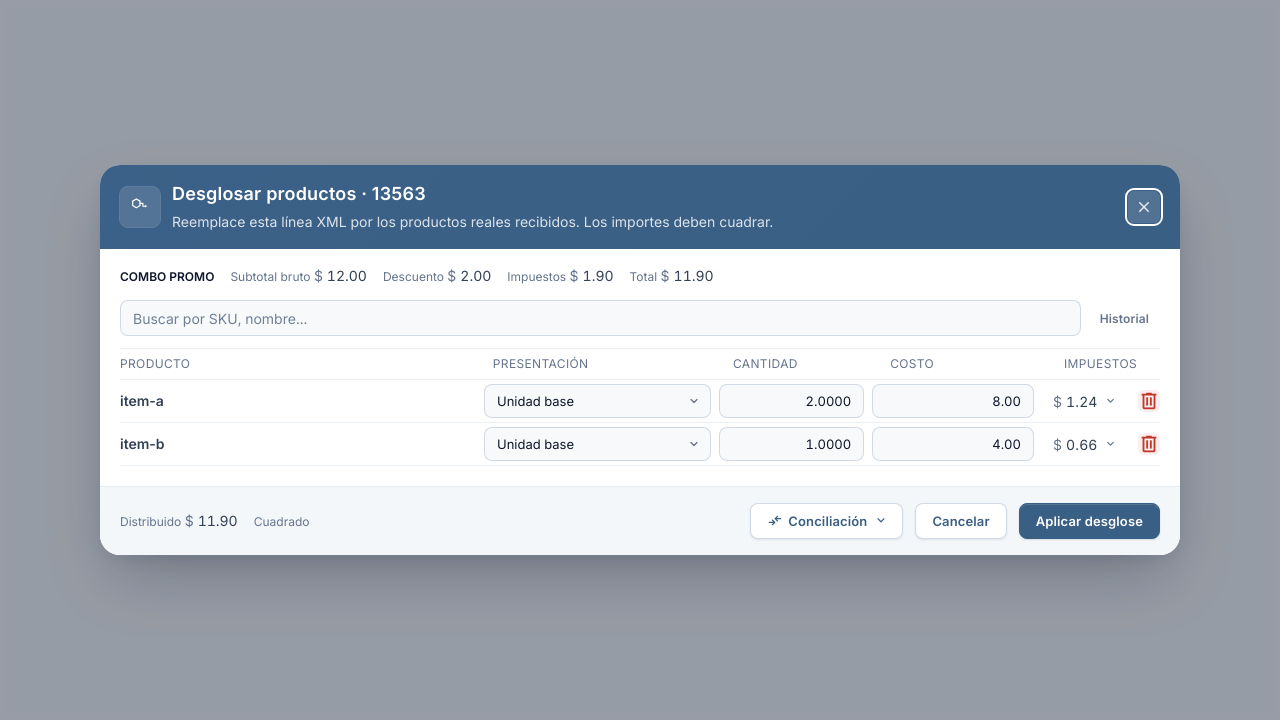
Test: PurchaseLineBreakdownModal › blocks applying on a tax difference and shows the reconciliation detail on demand
Click the button named "Impuestos y bases · item-b" at (1085,444), box left=1042, top=431, right=1129, bottom=457
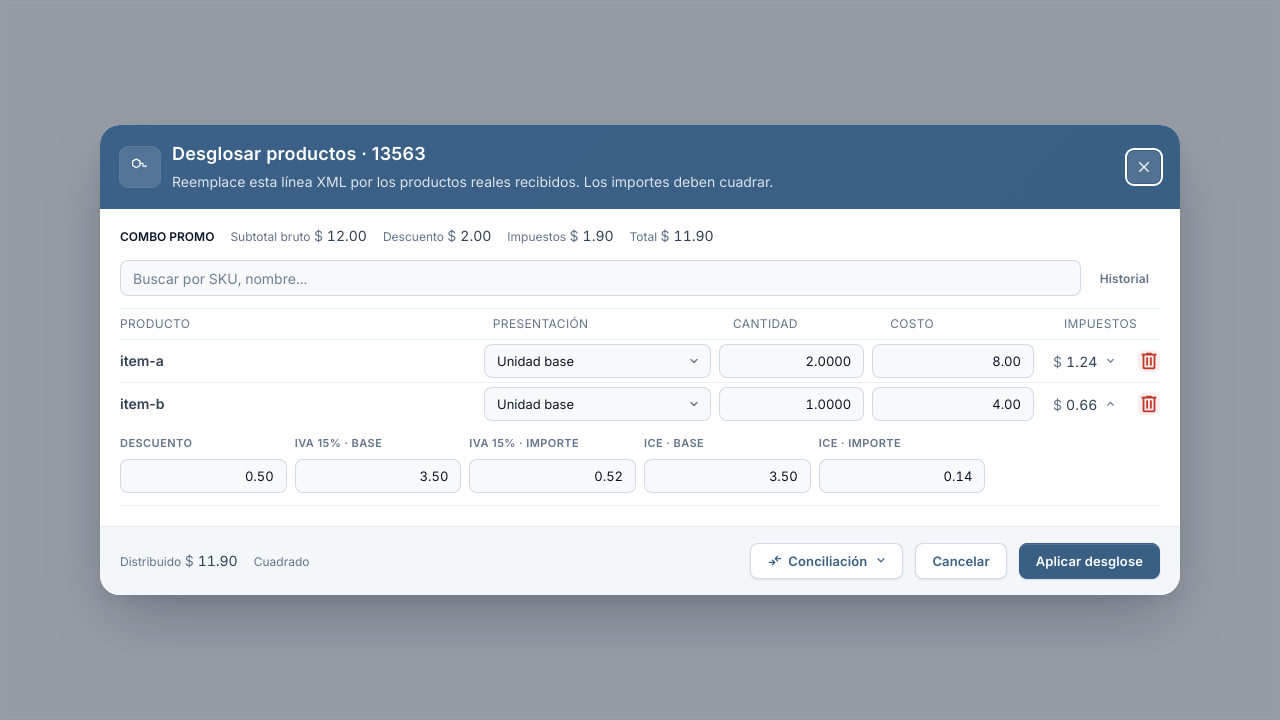
Replace the text in the field named "IVA 15% · Importe · item-b" with "0.51" at (553,476), box left=469, top=459, right=636, bottom=493
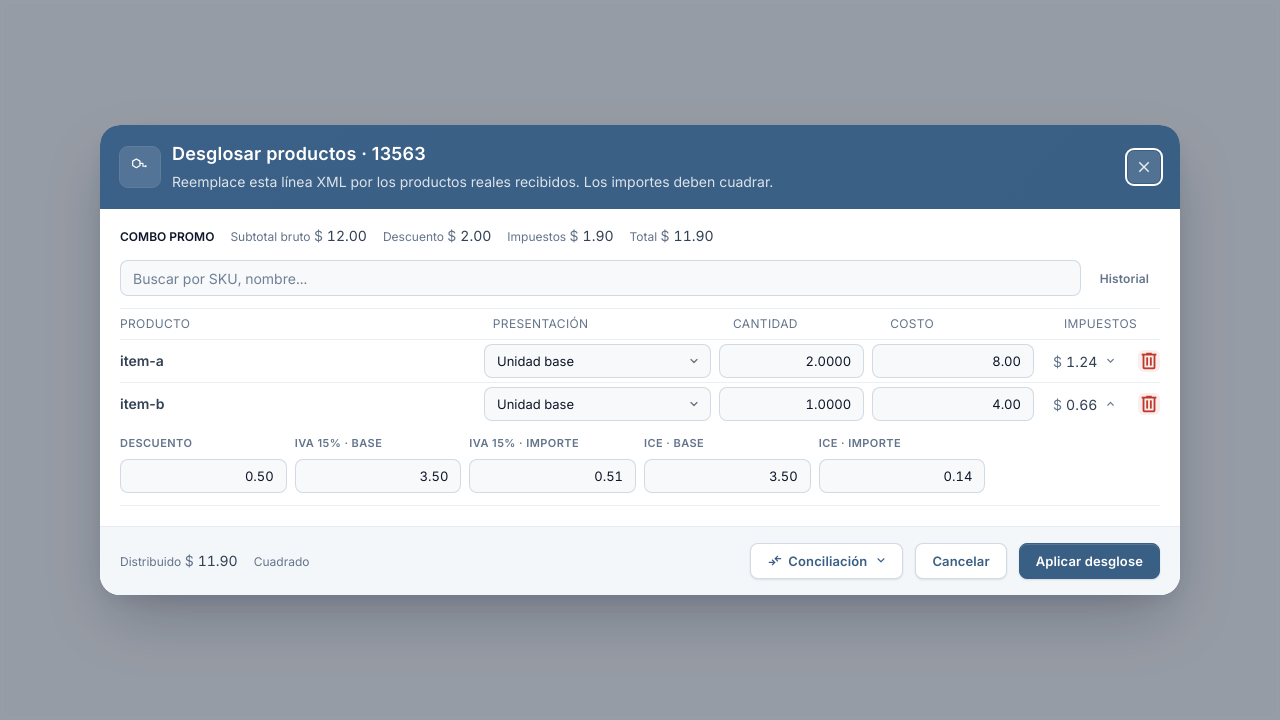
Leave the field named "IVA 15% · Importe · item-b", box left=469, top=459, right=636, bottom=493
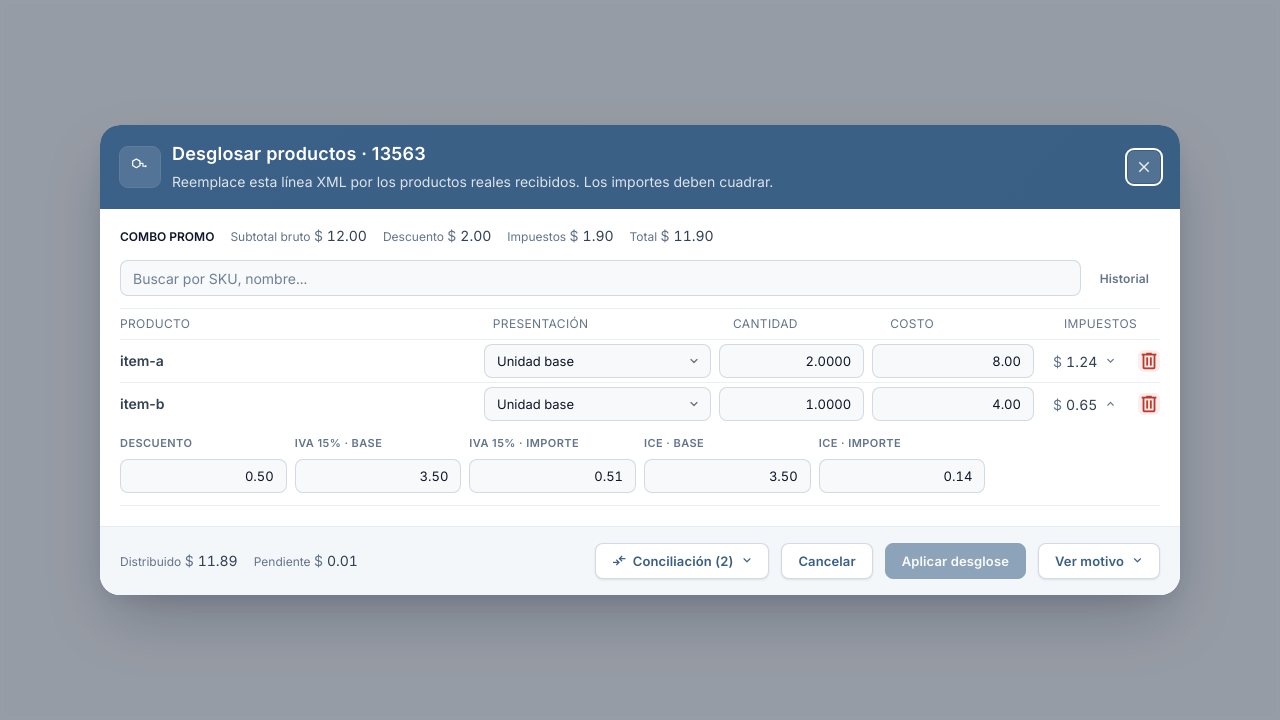
Now the button "Aplicar desglose" is disabled, box left=885, top=543, right=1026, bottom=579
Click the button with aria-label "Ver motivo: Aplicar desglose" at (1099,561), box left=1038, top=543, right=1160, bottom=579
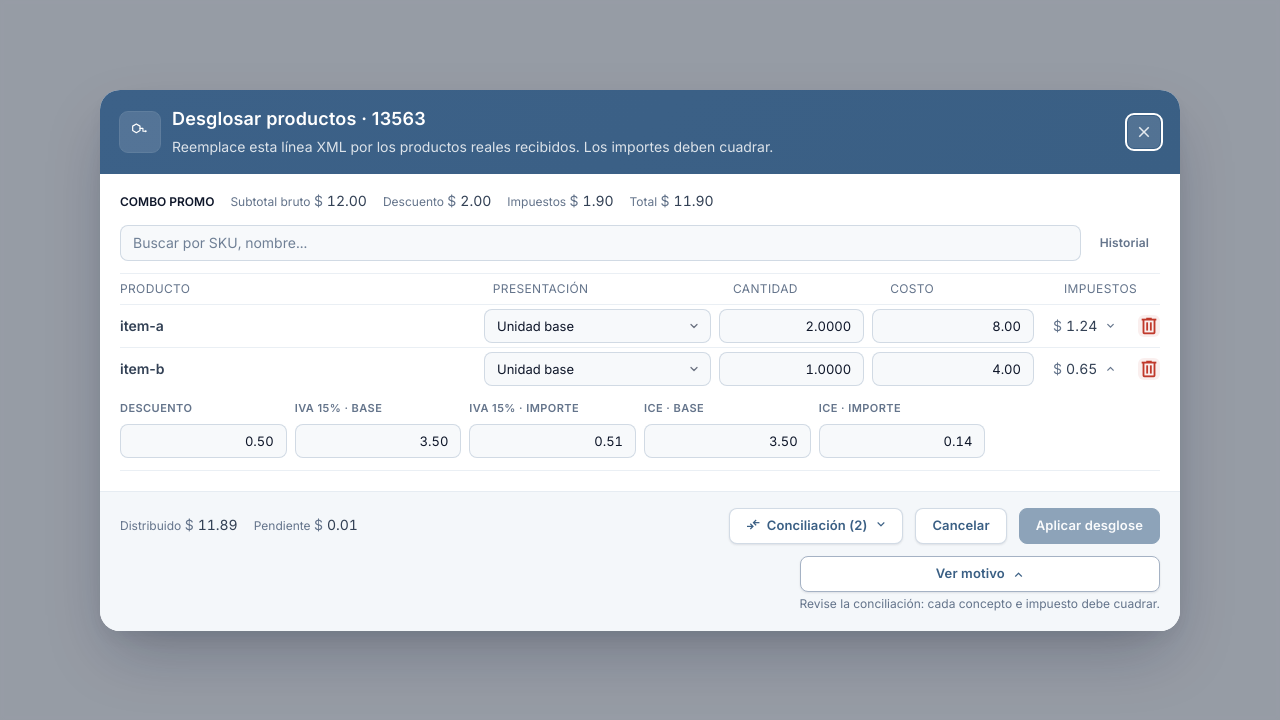
Now the text "Revise la conciliación: cada concepto e impuesto debe cuadrar." is shown, box left=800, top=596, right=1160, bottom=610
Click the button "Conciliación (2)" at (816,526), box left=729, top=508, right=903, bottom=544
(page scrolled)
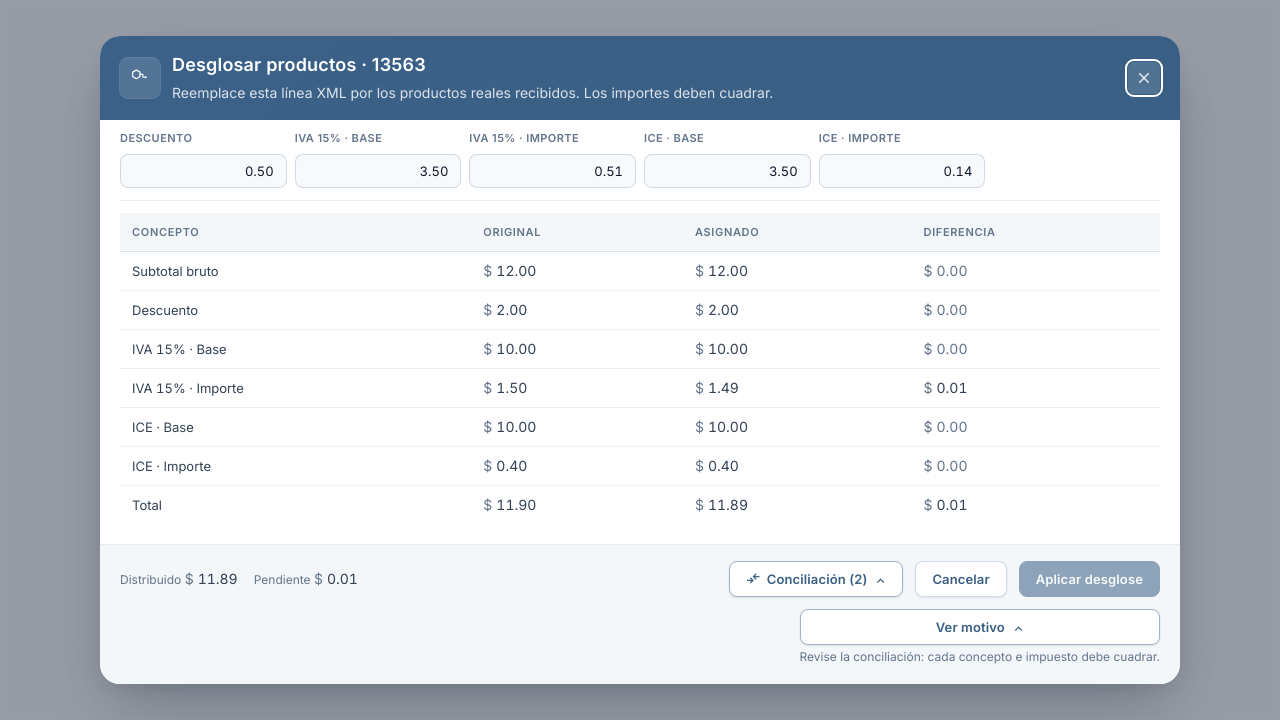
Now the button "Conciliación (2)" is expanded, box left=729, top=561, right=903, bottom=597
Now the element that starts with "Concepto" shows "IVA 15% · Importe", box left=132, top=380, right=244, bottom=396
